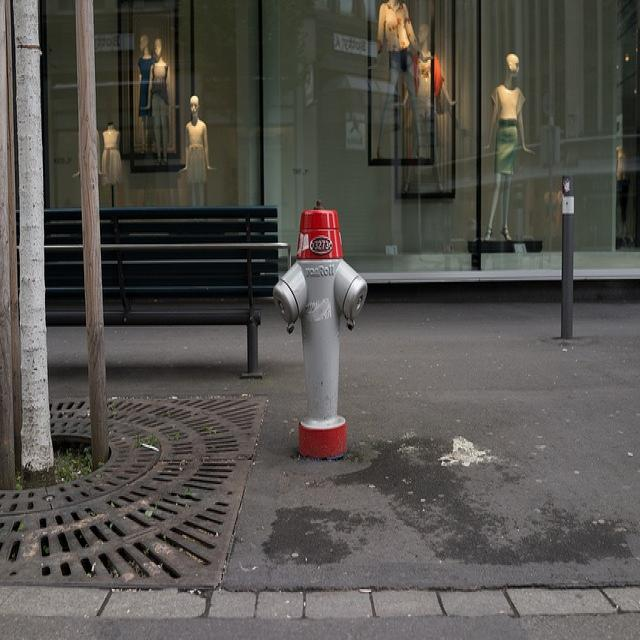fire_hydrant: (273, 194, 365, 458)
pole: (11, 0, 54, 483), (71, 0, 108, 459)
